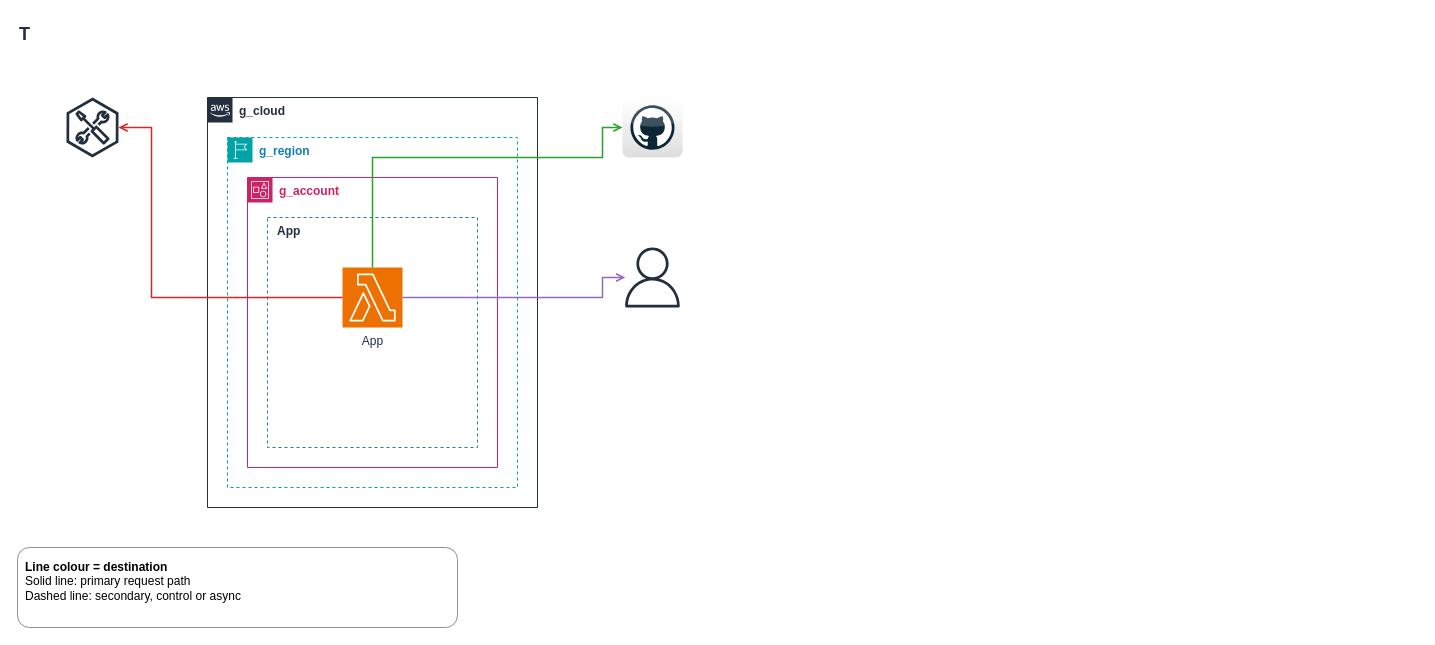
Image size: 1435x645. Some labels were removed from this diagram. The centre of each missing label's shape, as x and y in pixels:
GitHub: point (652, 127)
MCP servers remote tools: point (92, 127)
Users: point (652, 277)
